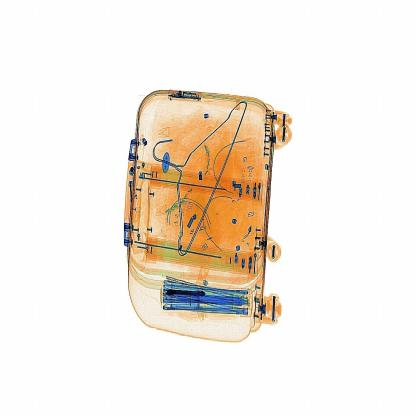knife: (166, 285, 206, 301)
